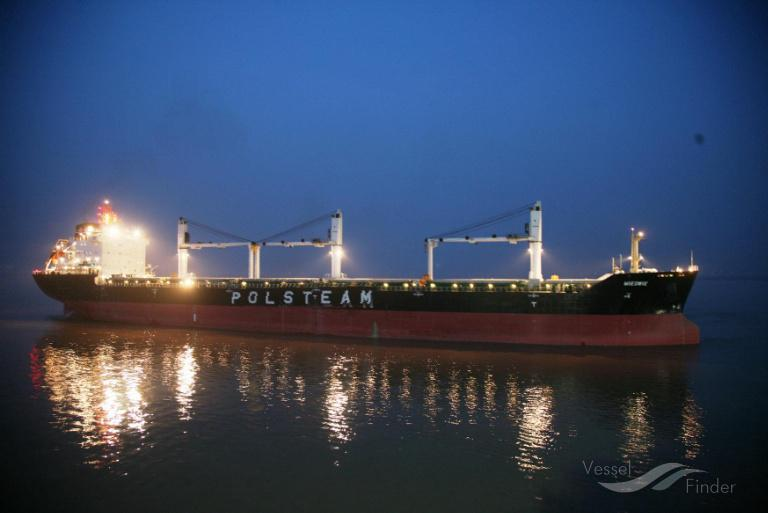OCR: (229, 283, 378, 311)
